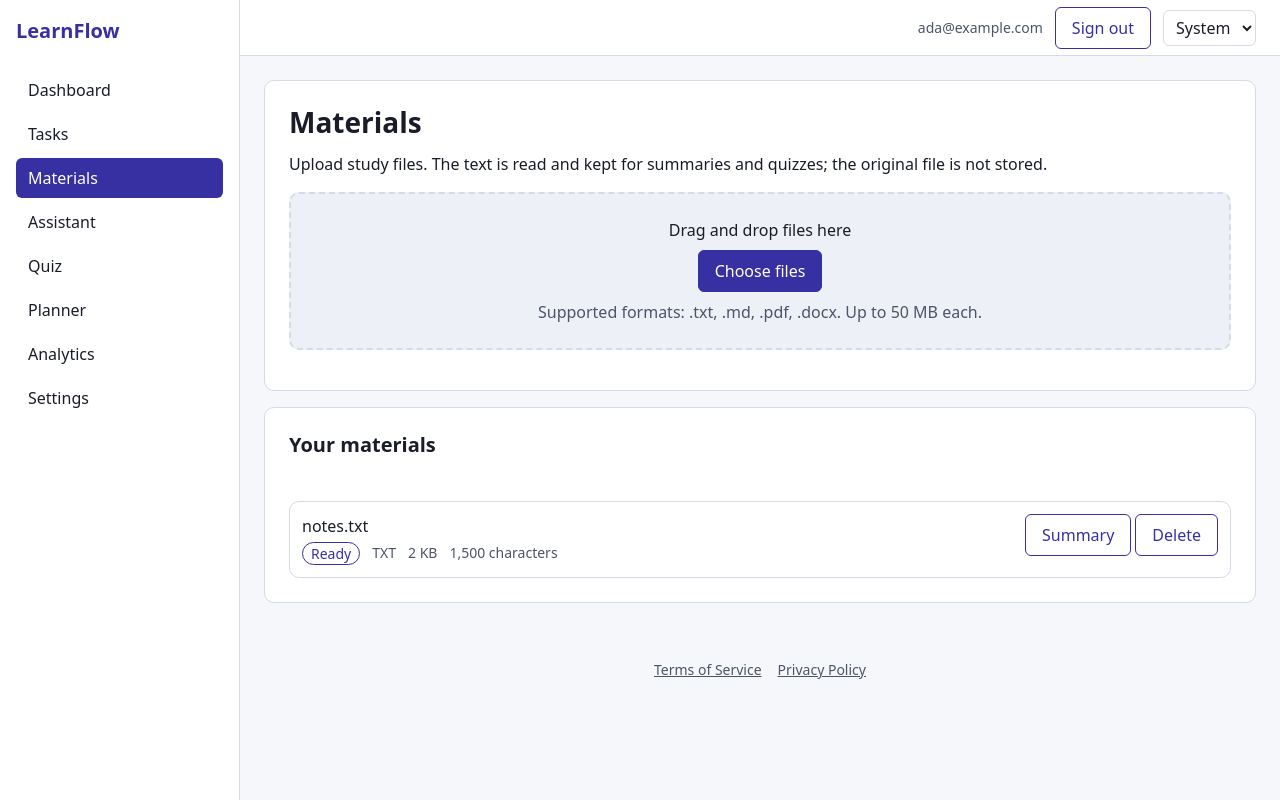
Test case: Summary panel › shows when it was written, how many sections were read and which model wrote it
Check: the element that starts with "Materials" is shown, box 240,56 -> 1279,643
What coordinates should you click on to do the following:
click the button with aria-label "Summary: notes.txt"
I would click on:
 (1078, 535)
Its box is 1025,514 -> 1131,556.
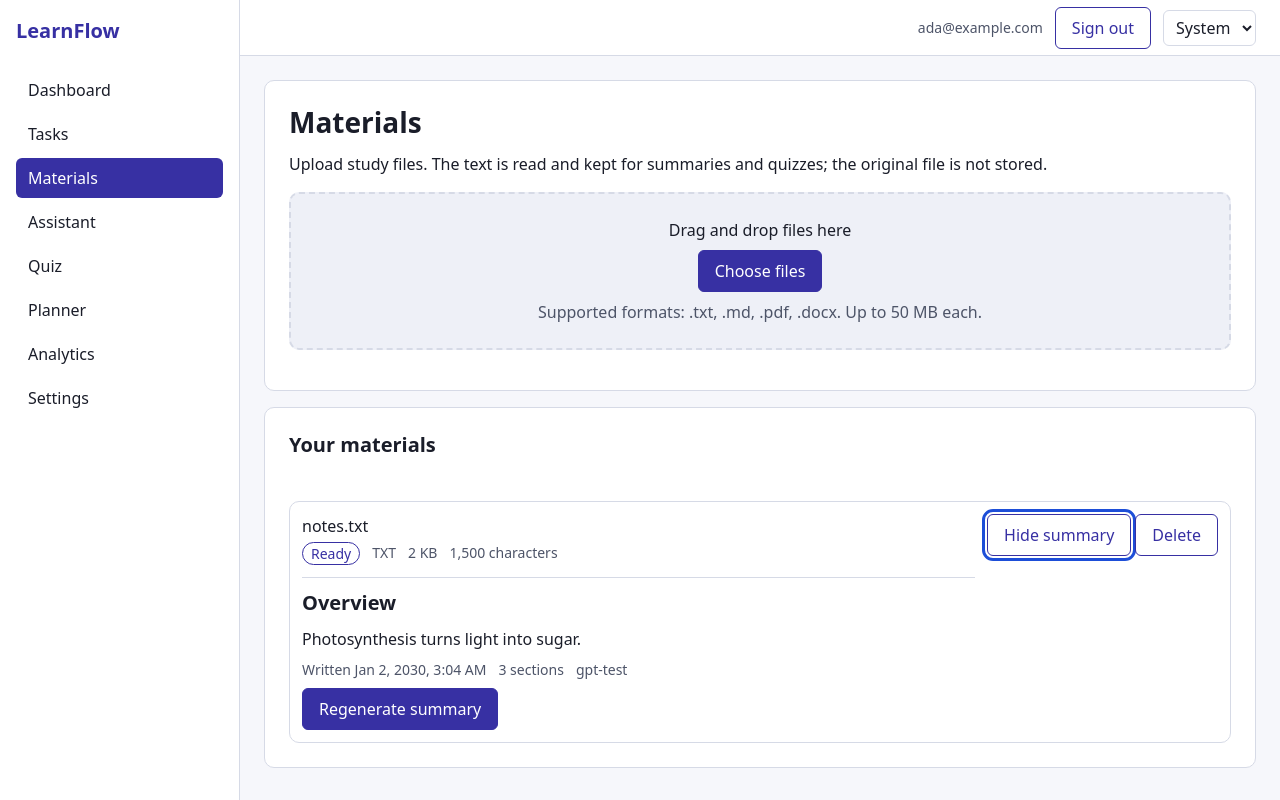
Check: the text "3 sections" is shown, box 498,659 -> 564,680
Check: the text "gpt-test" is shown, box 576,659 -> 627,680
